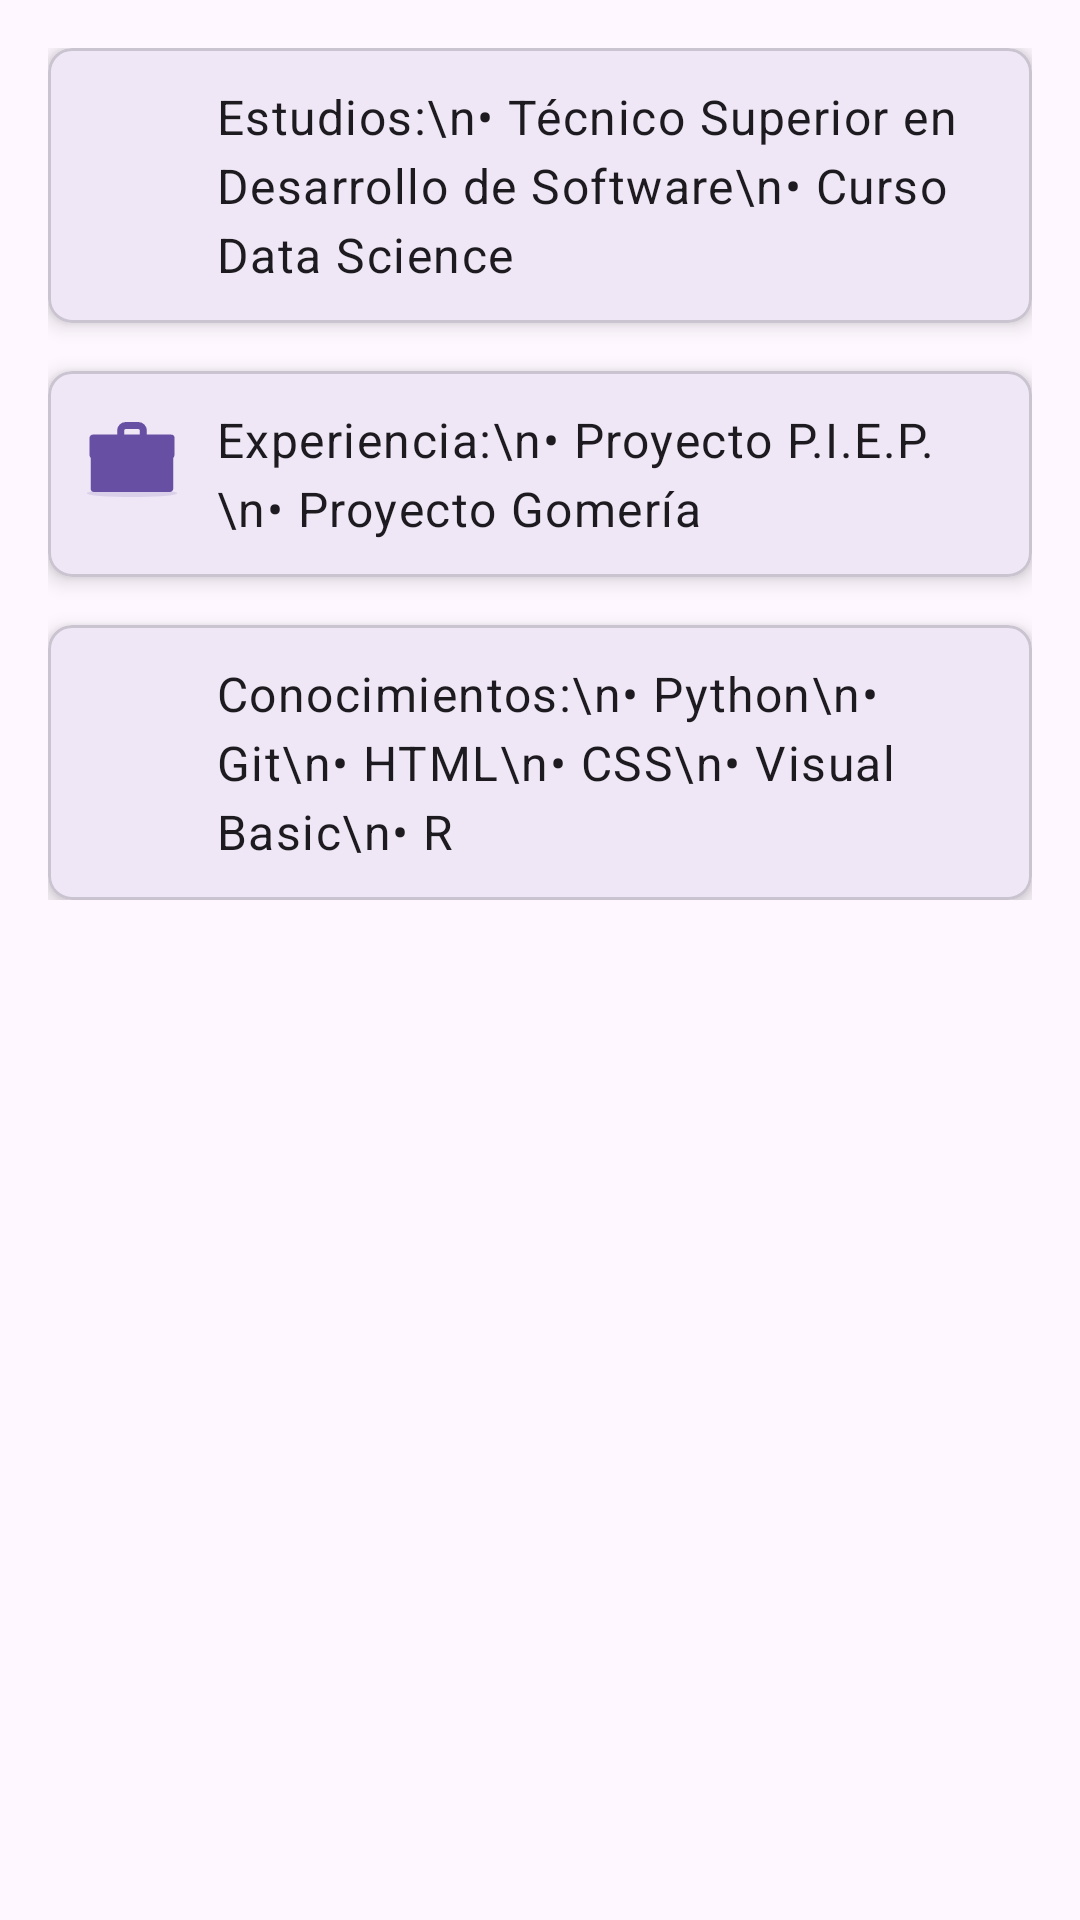

Icon bounding boxes for this 1080x1920 phone screenshot, format (x1, y1, x2, y2):
maletin: (89, 422, 175, 492)
